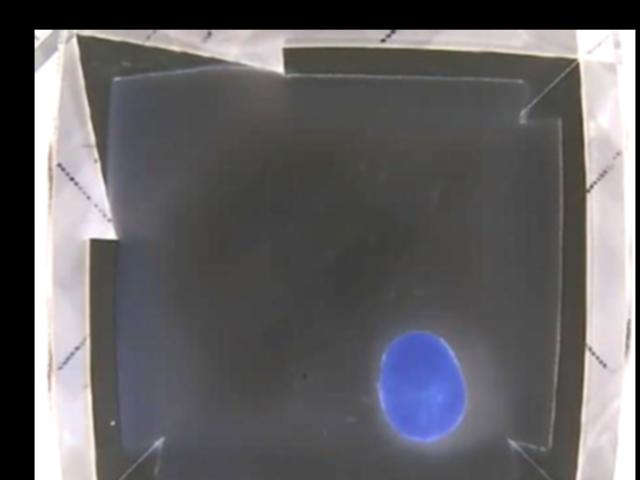Potato: (376, 330, 467, 442)
